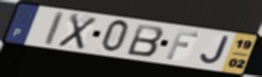0: (99, 19, 131, 56)
B: (125, 22, 166, 58)
F: (164, 28, 201, 61)
I: (44, 10, 66, 46)
J: (198, 35, 231, 67)
X: (56, 12, 100, 51)
